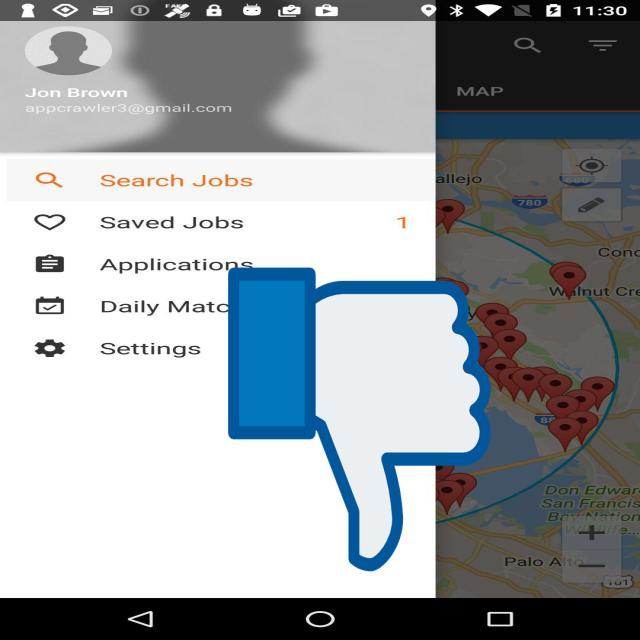obstruction: (228, 261, 491, 578)
